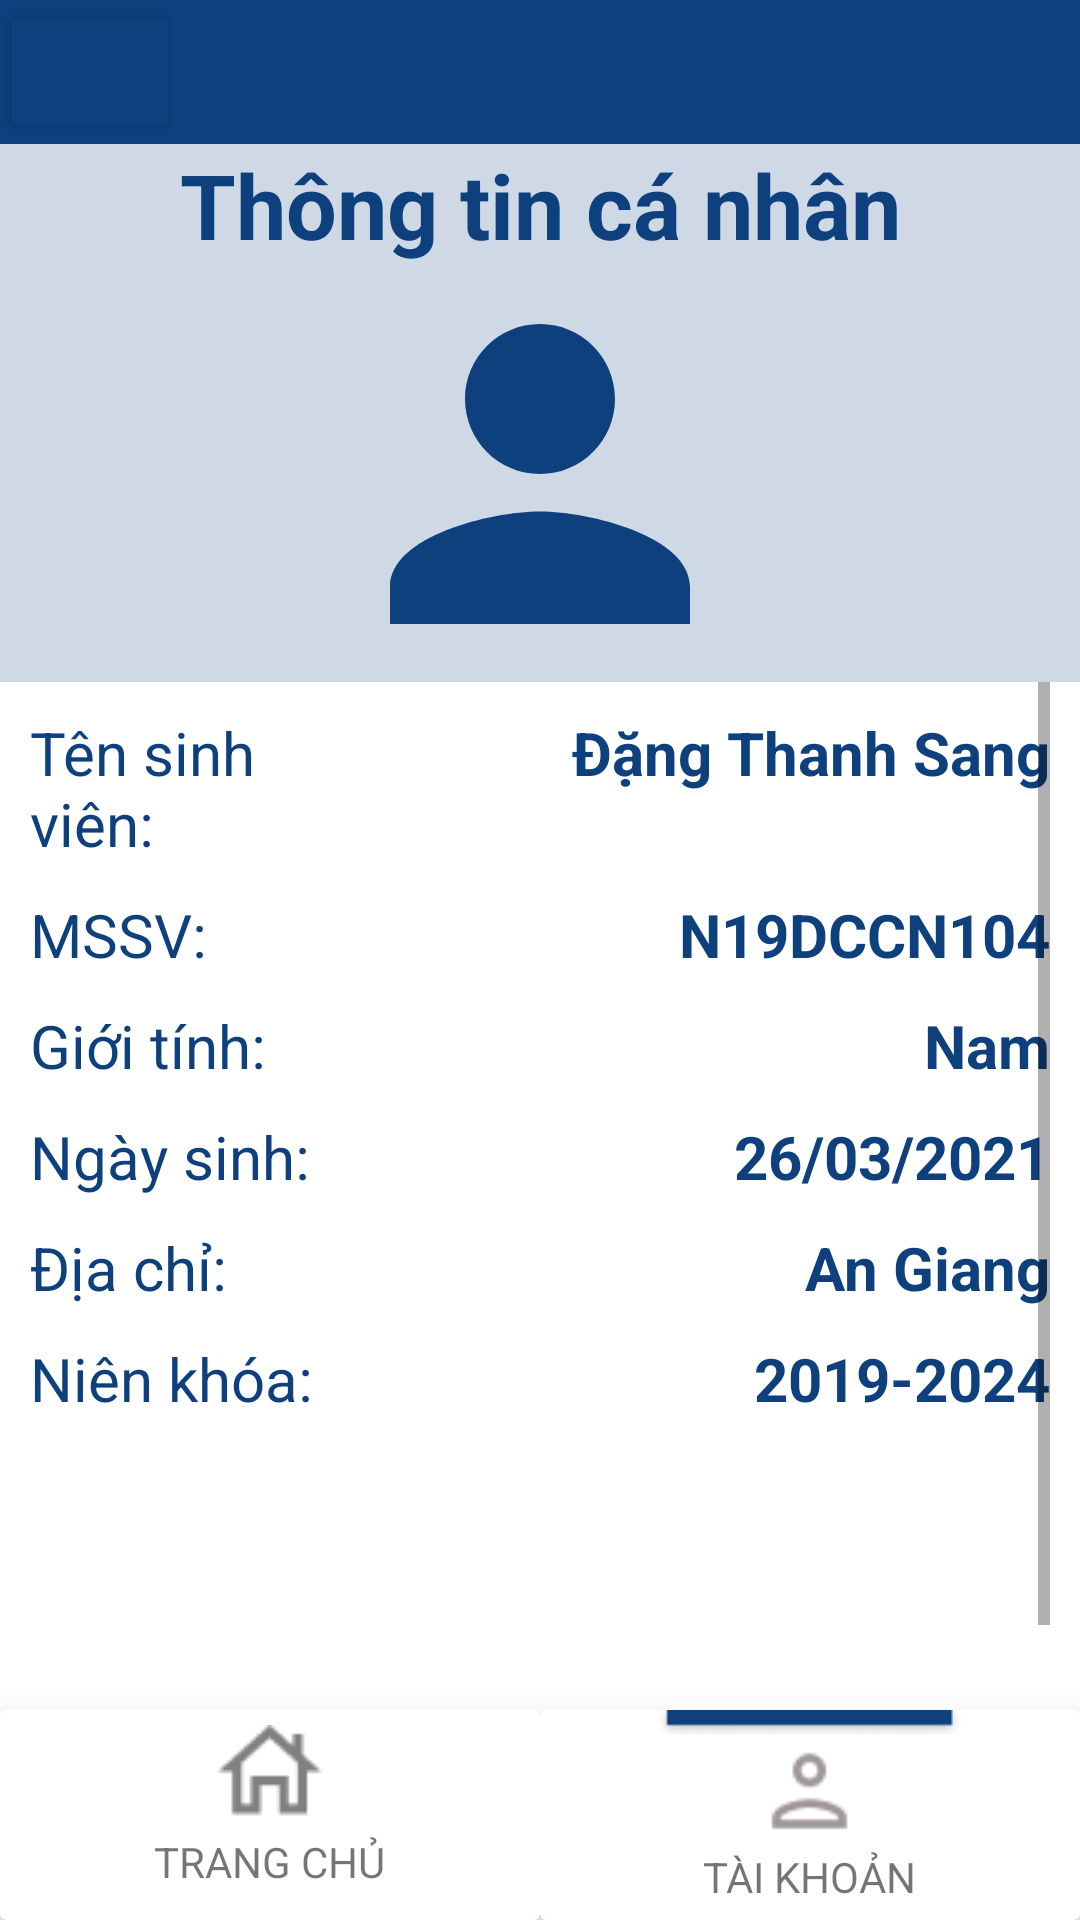

Point at icon controls on the screen. Image size 1080 × 1920, points as (x,y).
people: (809,1791)
